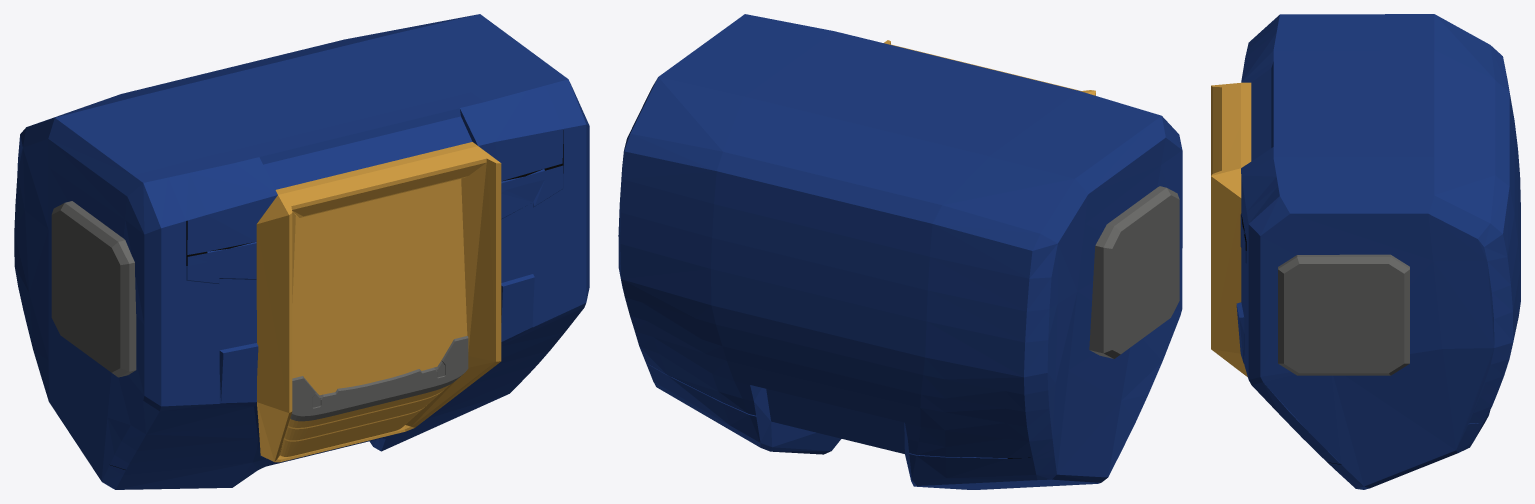
File: rx78_object_080-lib.dae
The picture shows the model from 3 angles, left to right: view 1: azimuth 30°, elevation 25°; view 2: azimuth 150°, elevation 25°; view 3: azimuth 270°, elevation 25°; orthographic projection. The views are drawn at different scales.
Visible parts, largest first — view 1: rx78_object_080Mesh-node; view 2: rx78_object_080Mesh-node; view 3: rx78_object_080Mesh-node.
Part boxes in pixels (box(x1,y1,x2,y2)): rx78_object_080Mesh-node: box(14, 14, 589, 489); rx78_object_080Mesh-node: box(618, 14, 1182, 489); rx78_object_080Mesh-node: box(1211, 14, 1520, 489).
Bounding box in the file's own units: 39.55 × 30.5 × 26.04.
